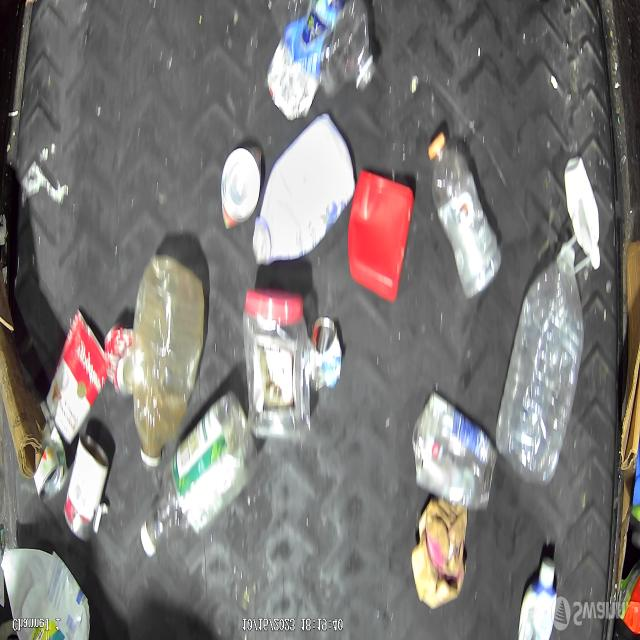can: (411, 394, 497, 510), (63, 434, 110, 542), (220, 143, 262, 231), (104, 323, 140, 398), (34, 434, 66, 506)
milk_jug: (252, 114, 356, 266), (0, 548, 92, 640)
plastic_bottle: (495, 245, 586, 486), (141, 392, 261, 558), (427, 130, 501, 298), (269, 0, 376, 96)
